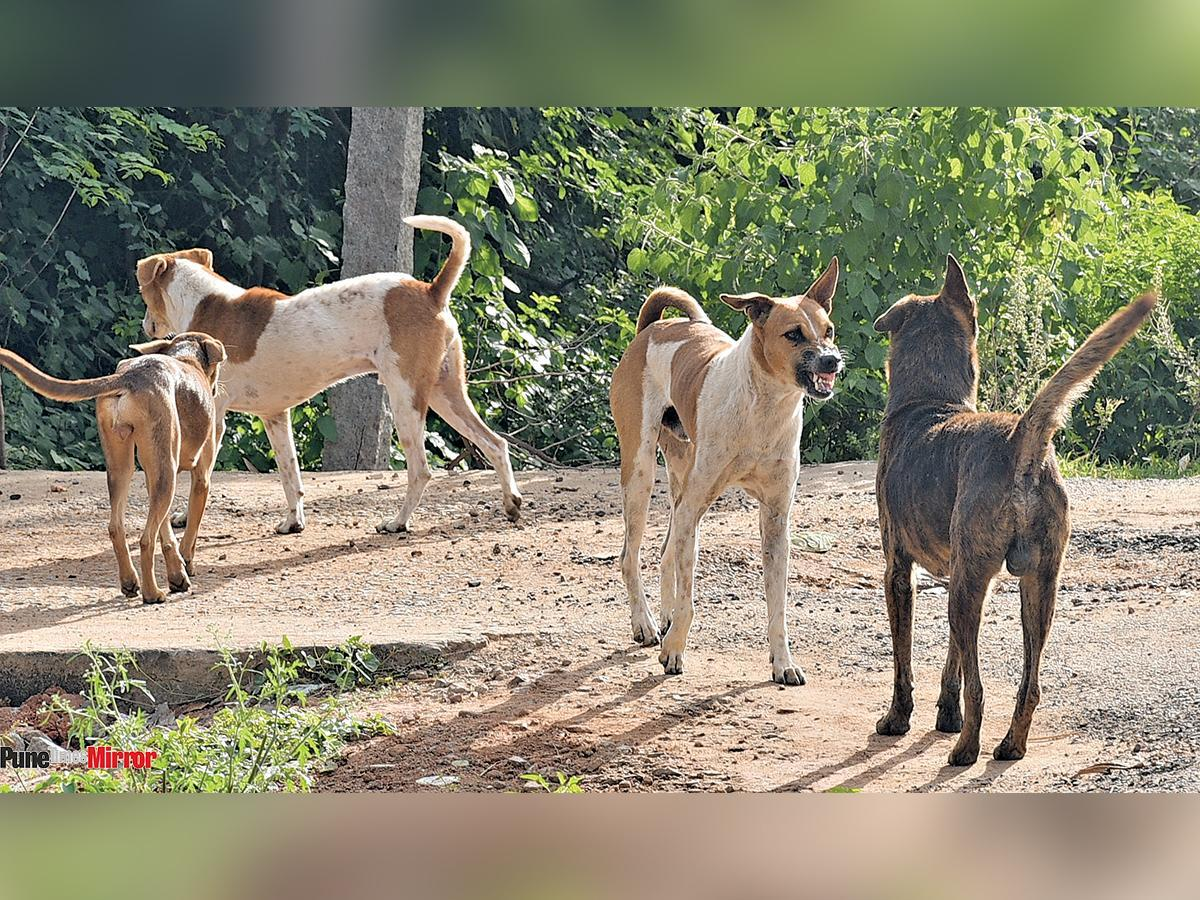dog_aggressive: (616, 233, 843, 696)
normal_dogs: (860, 250, 1173, 774), (120, 203, 541, 534), (0, 301, 227, 598)
